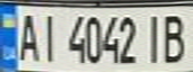0: (84, 11, 103, 65)
2: (118, 11, 142, 65)
4: (103, 11, 124, 65), (63, 11, 84, 64)
A: (12, 9, 42, 62)
B: (160, 10, 190, 64)
I: (142, 11, 169, 65), (36, 9, 60, 63)
